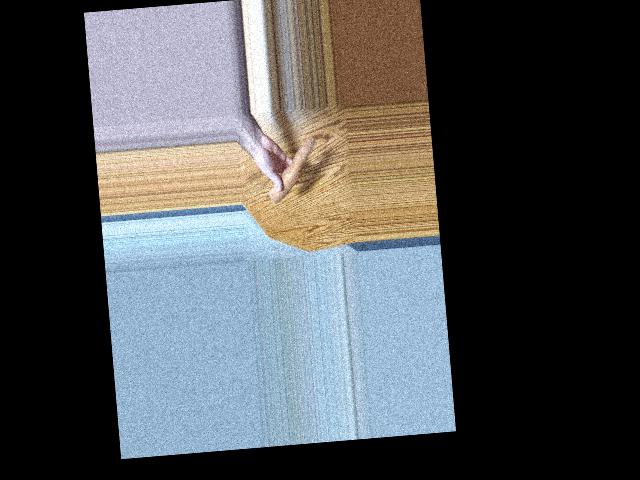sweet_potato: (263, 137, 317, 198)
